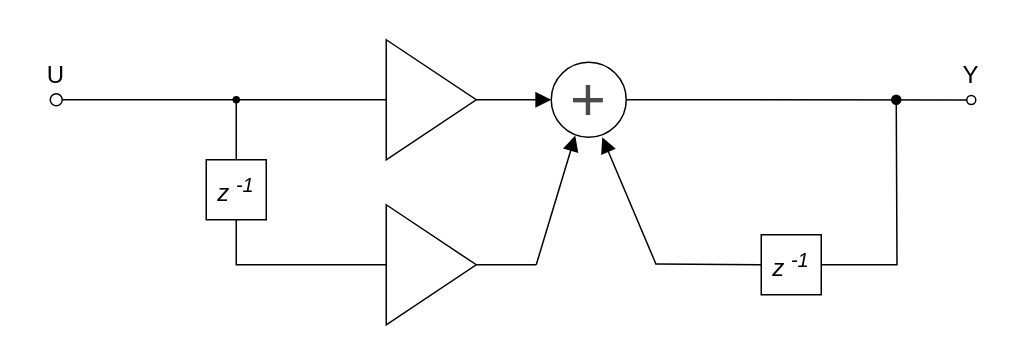
Some shapes in this 1026 by 351 pixel diagram are drawn without their labels. Each missing label, with the centre of its shape:
B 0: point (430, 99)
B 1: point (430, 264)
